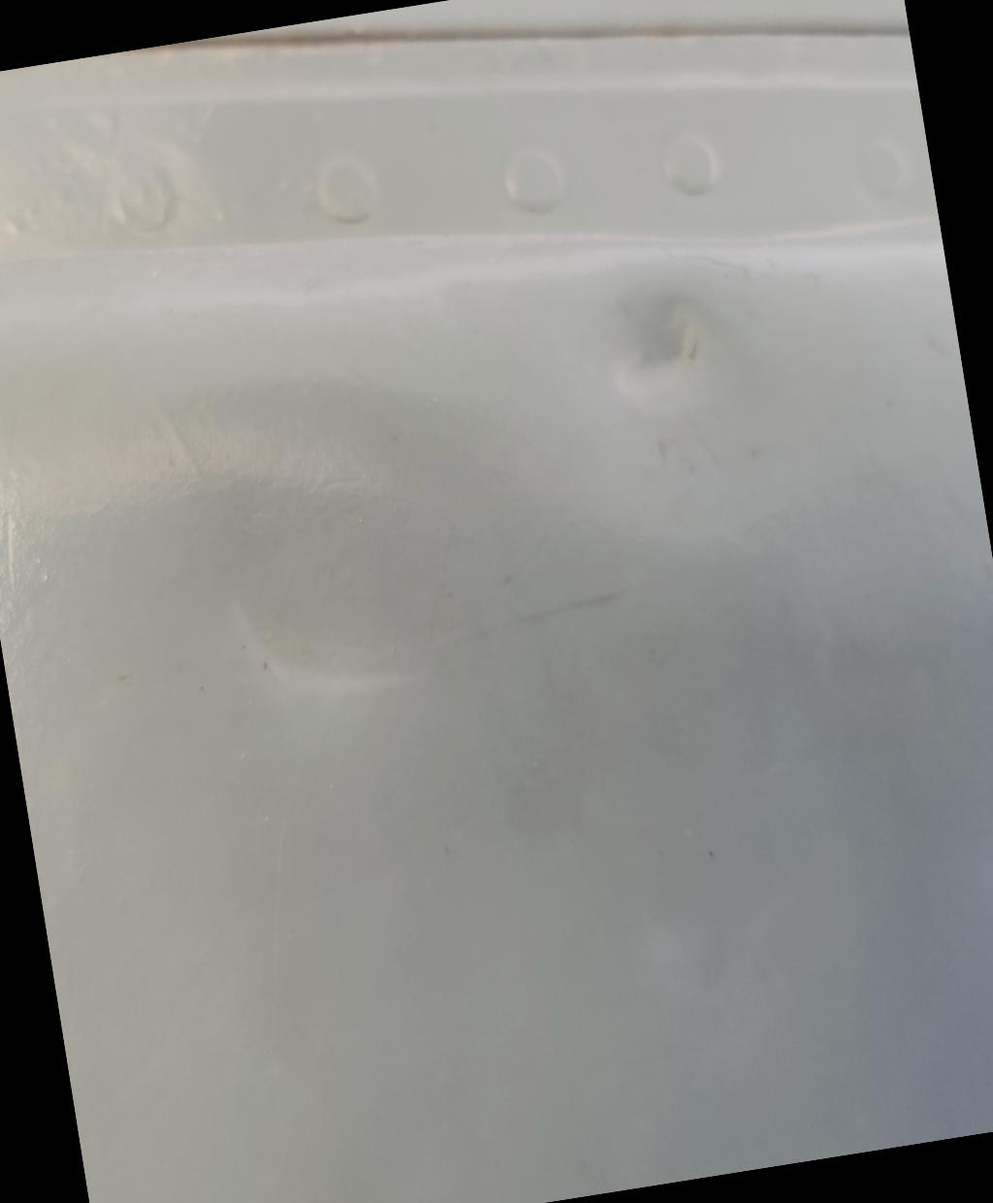dent: (154, 485, 501, 776), (543, 233, 778, 463)
